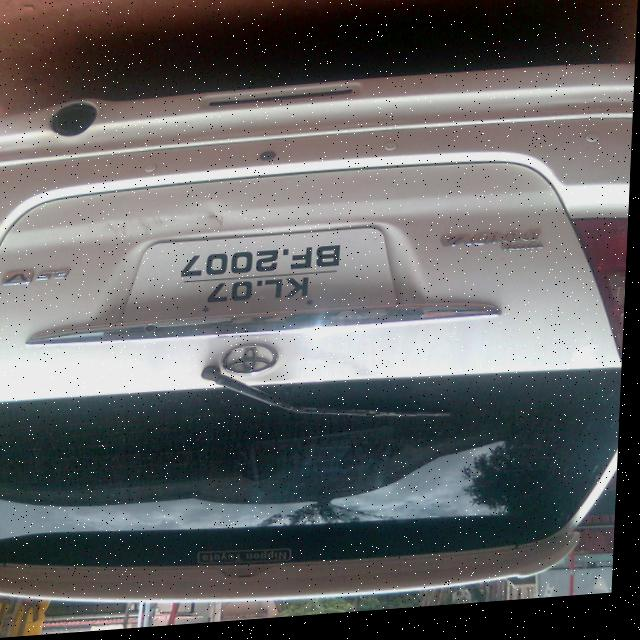plate: (122, 233, 404, 330)
